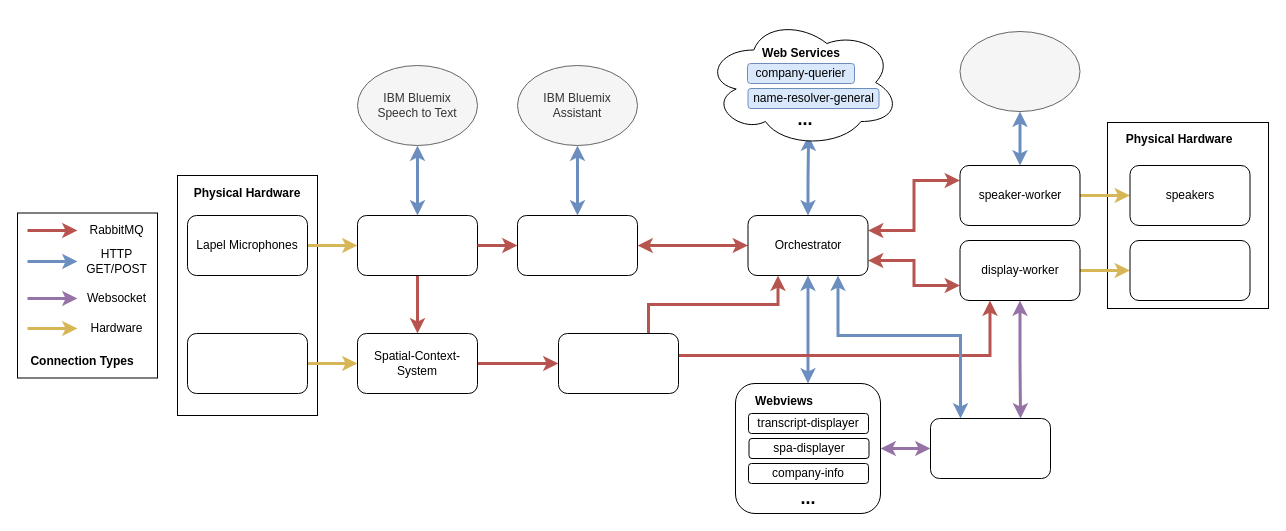
This 1286x531 diagram has some shape labels left out. The centre of each missing label's shape, as x and y in pixels:
"Conversation-Worker" goes at [577,245].
"IBM Bluemix Text to Speech" goes at [1019,71].
"Kinect Cameras" goes at [247,363].
"projectors/displays" goes at [1189,270].
"Reagent" goes at [990,448].
"Spatial-Context-Bridge" goes at [618,363].
"Transcript-Worker" goes at [417,245].
